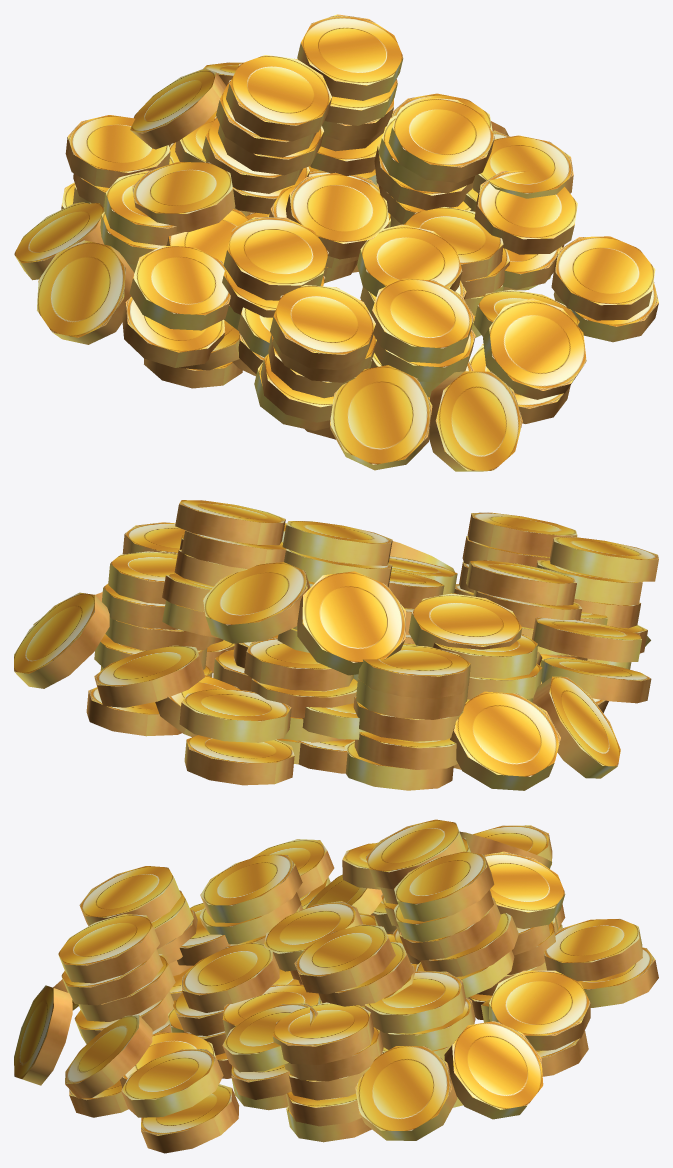
File: coin3.obj
The picture shows the model from 3 angles, top to bottom: view 1: azimuth 30°, elevation 25°; view 2: azimuth 150°, elevation 25°; view 3: azimuth 270°, elevation 25°; orthographic projection. The views are drawn at different scales.
Bounding box in the file's own units: 7.83 × 3.78 × 8.56.
